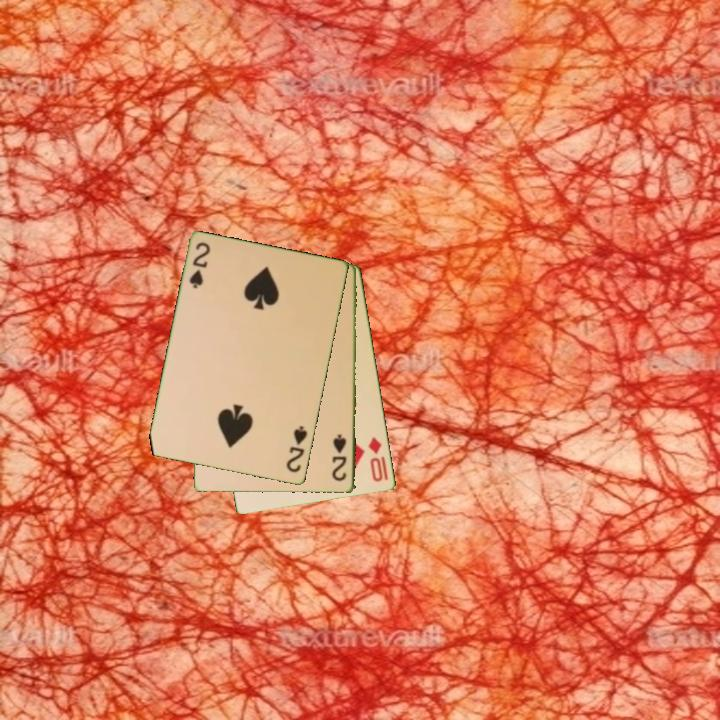10d: (365, 434, 386, 485)
2s: (283, 423, 311, 476), (186, 239, 213, 292), (329, 431, 350, 484)
